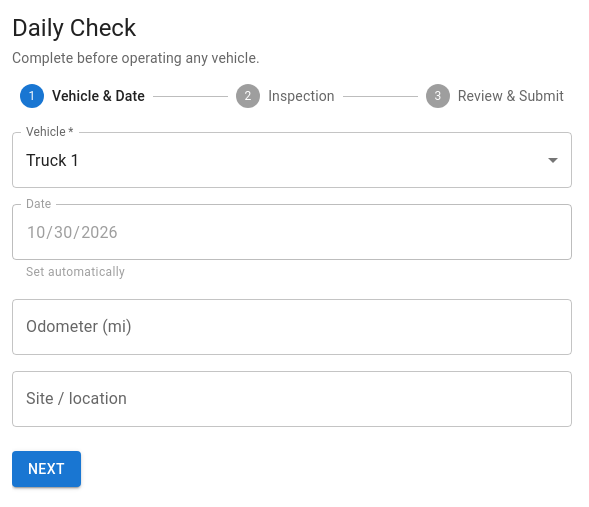
CC-32 (2.5b) a LATE template never wipes answers already given › applies the template silently when the form is still pristine
Expected: the dropdown "Truck 1" is shown, [26,150,80,170]
Click the button "Next": (46, 469) [12,451,81,487]
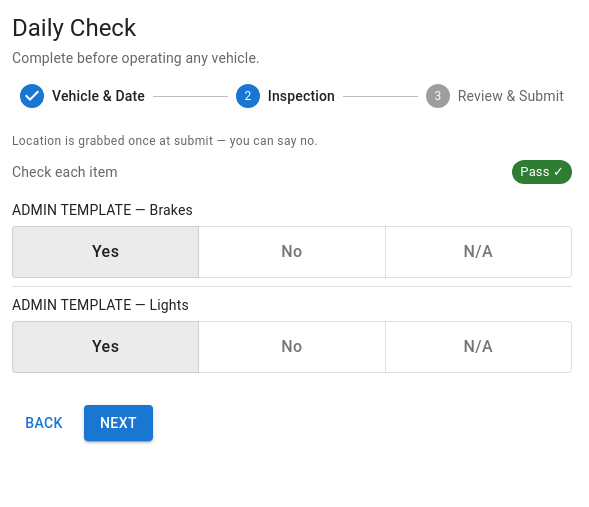
Result: the text "ADMIN TEMPLATE — Brakes" is shown at [12,202,193,218]
